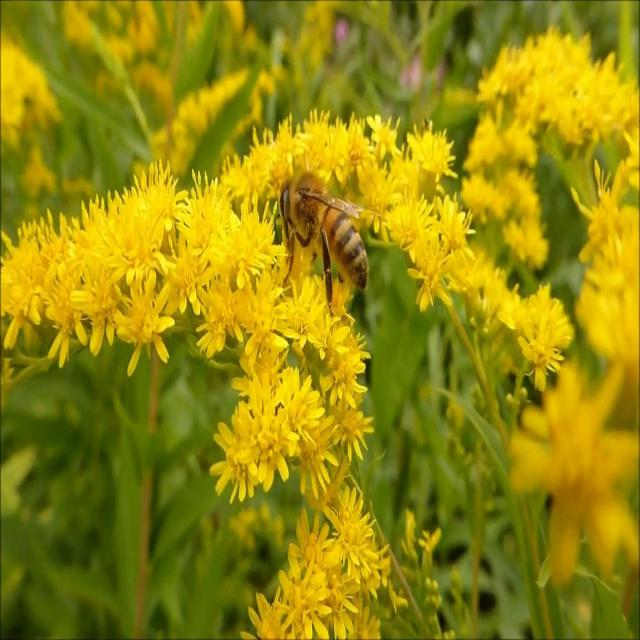honeybee: (275, 174, 371, 298)
